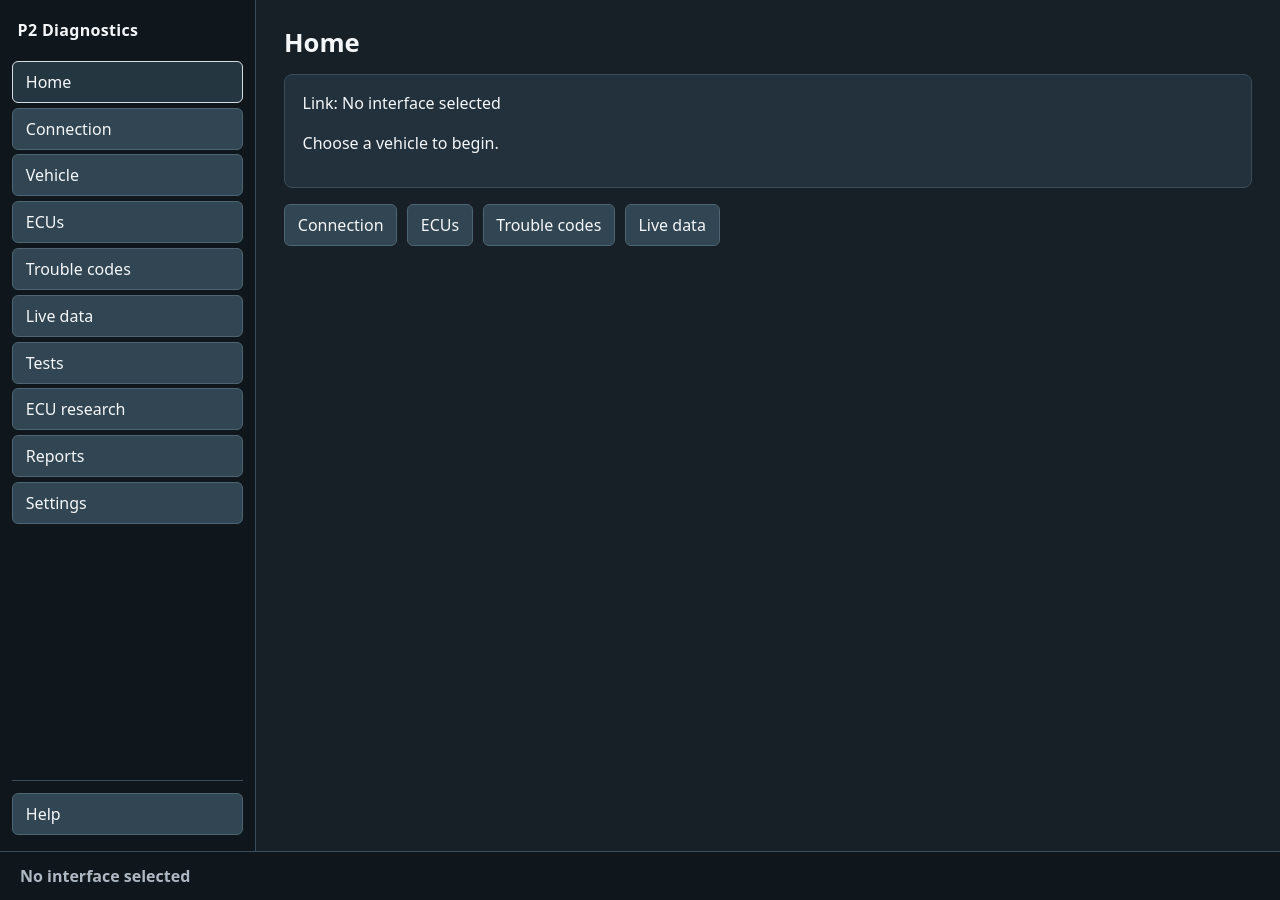
Test: P2 Diagnostics shell › starts with no interface and explains that trouble codes need a connection
Expected: the message reads "No interface selected", [20,865,190,887]
Click the button "Trouble codes" below "P2 Diagnostics" at (128, 269), box [12,248,243,290]
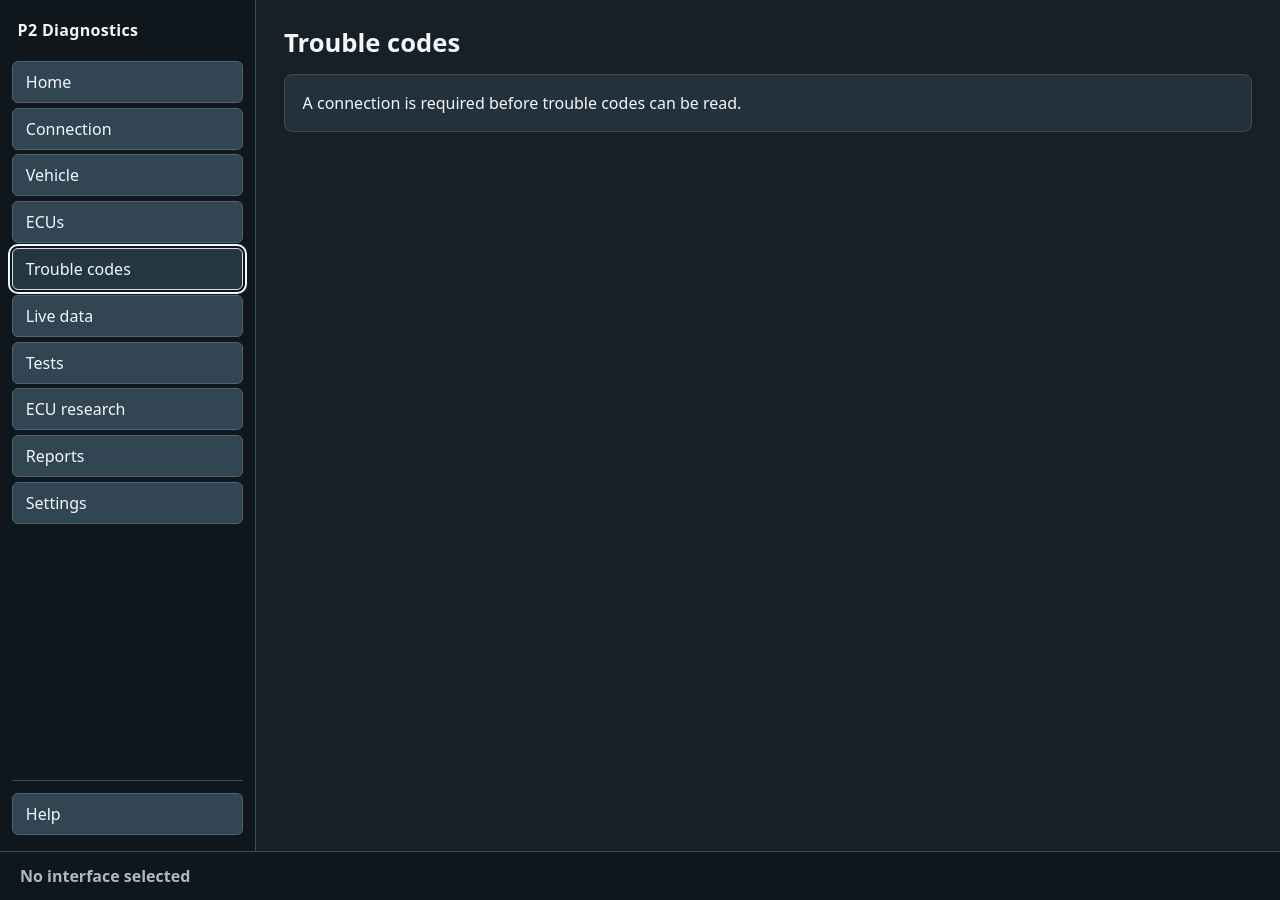
Result: the text "A connection is required before trouble codes can be read." is shown at [303,92,741,114]
